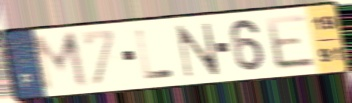6: (229, 17, 267, 74)
7: (80, 28, 118, 89)
E: (263, 12, 319, 72)
L: (132, 27, 176, 82)
M: (29, 29, 91, 95)
N: (174, 21, 222, 80)
